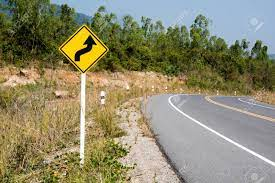right turn: (58, 24, 108, 73)
